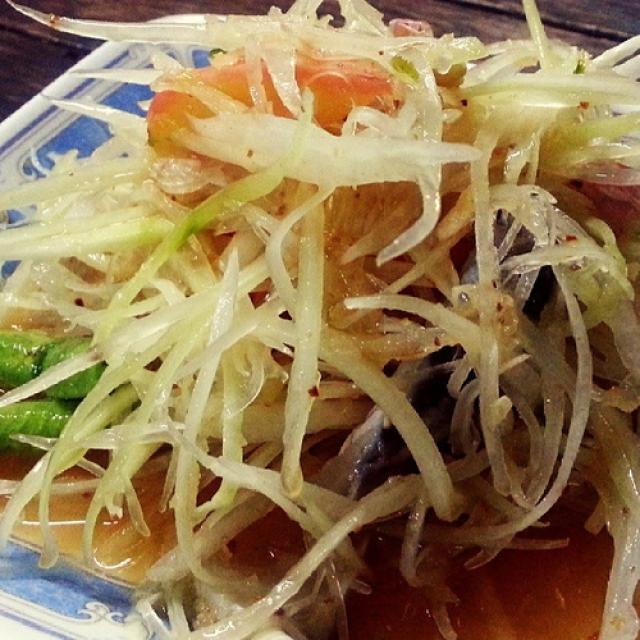蔬菜料理: (9, 13, 623, 613)
